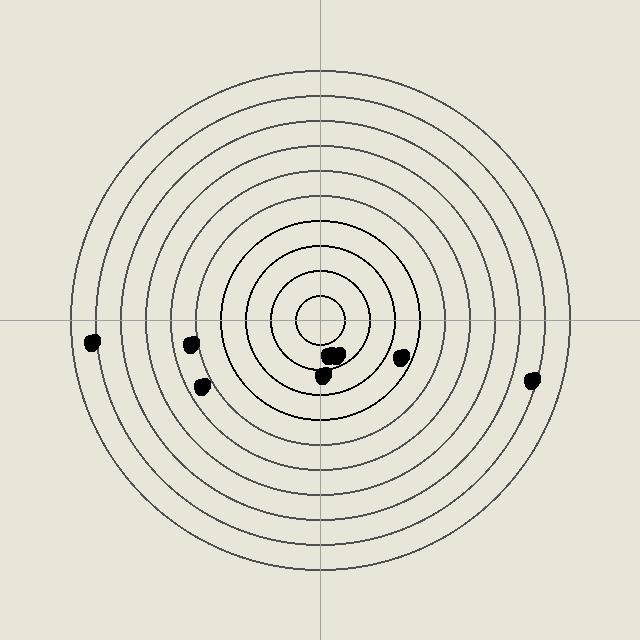horizontal_scatter: (390, 347, 410, 367), (326, 345, 346, 365), (318, 345, 338, 365), (81, 332, 101, 352), (521, 370, 541, 390), (180, 334, 200, 354), (312, 365, 332, 385), (191, 376, 211, 396)
